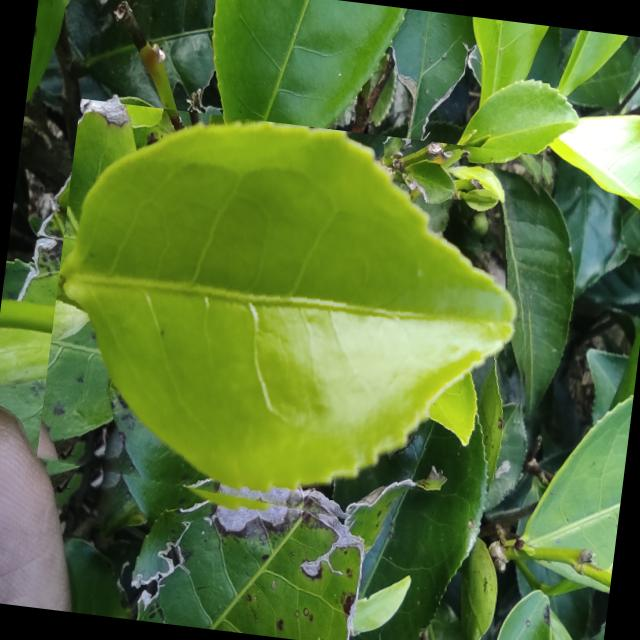Category B(2-4 days): (31, 98, 554, 550)
